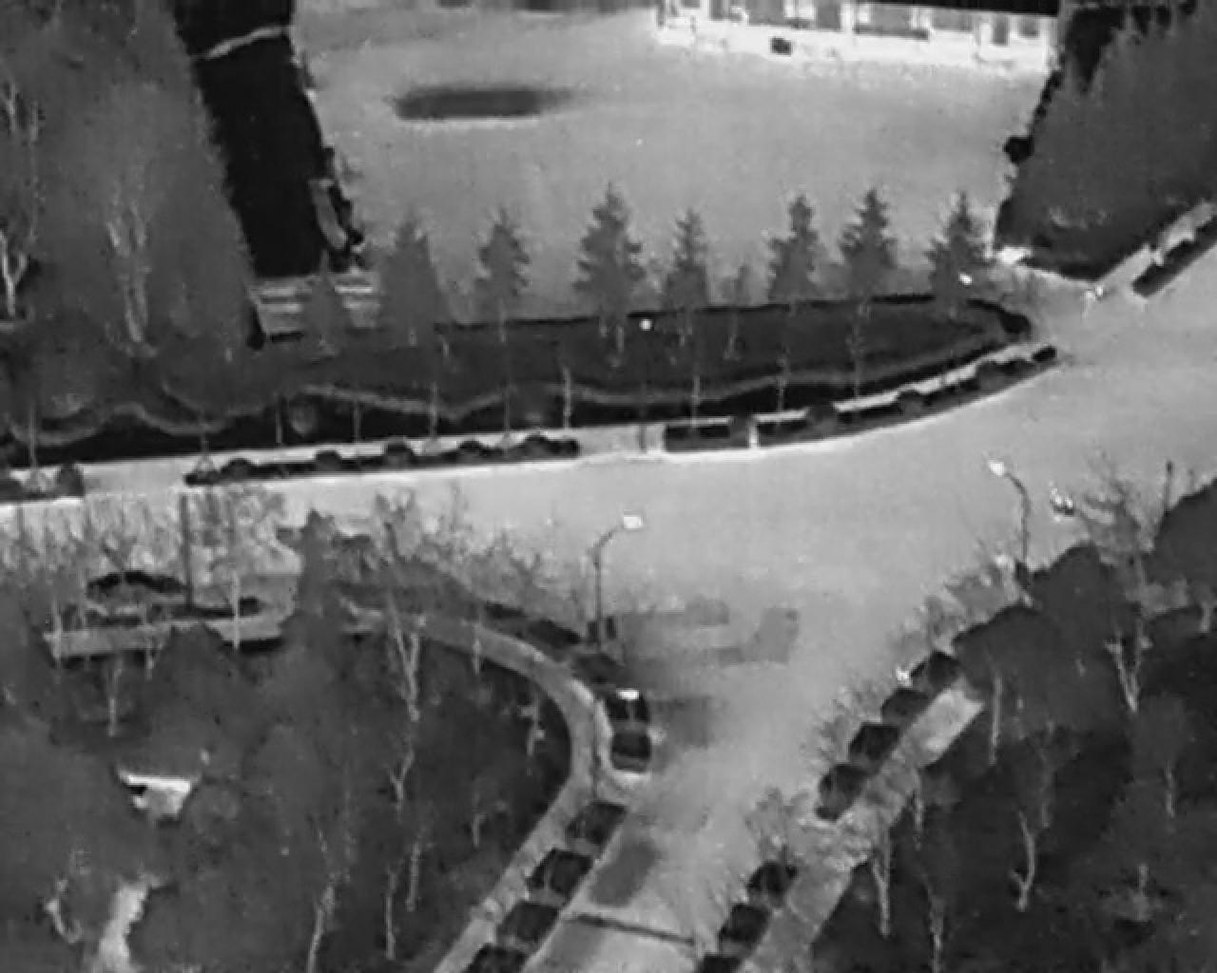person: (1081, 288, 1098, 324), (1053, 491, 1068, 527), (1066, 495, 1077, 524)
